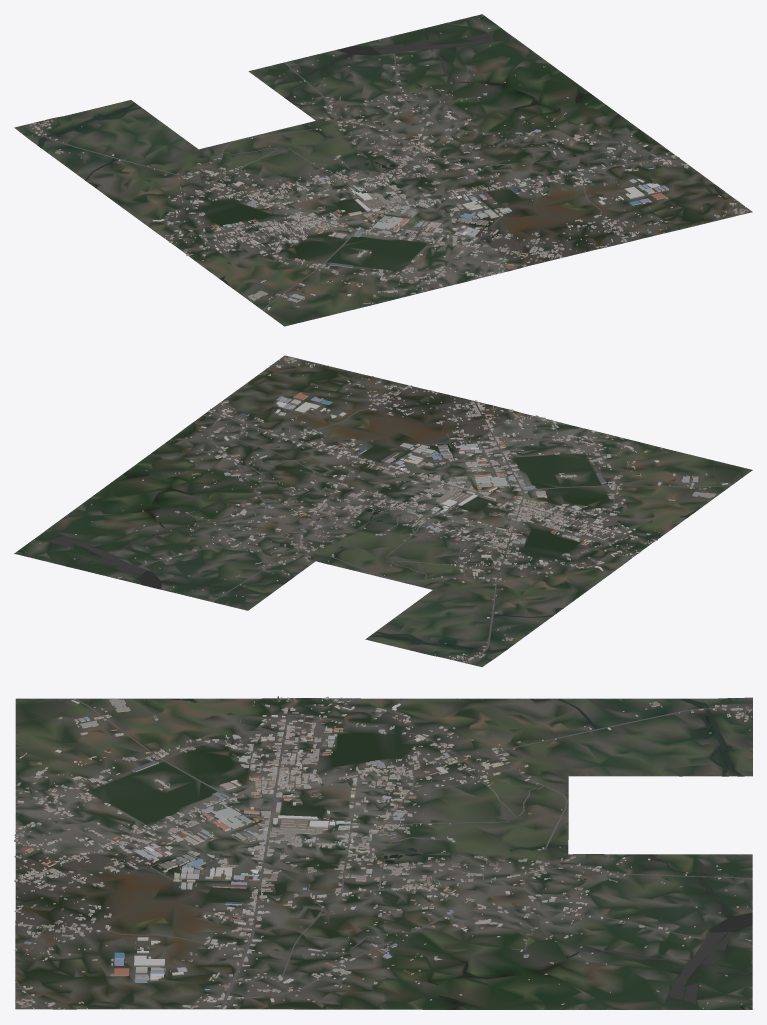
The picture shows the model from 3 angles, top to bottom: view 1: azimuth 30°, elevation 25°; view 2: azimuth 150°, elevation 25°; view 3: azimuth 270°, elevation 25°; orthographic projection. The views are drawn at different scales.
Parts seen in each view (by area): view 1: ground, buildings, roads, water; view 2: ground, buildings, roads, water; view 3: ground, buildings, roads, water.
Boxes of the visible parts, box(x1,y1,x2,y2) form: ground: box(14, 14, 752, 326); buildings: box(29, 18, 748, 310); roads: box(31, 54, 739, 309); water: box(38, 16, 594, 317); ground: box(14, 355, 752, 666); buildings: box(25, 357, 730, 662); roads: box(139, 358, 730, 663); water: box(17, 461, 724, 653); ground: box(15, 697, 752, 1009); buildings: box(14, 696, 751, 1009); roads: box(15, 698, 752, 1009); water: box(16, 698, 752, 1009).
Size of the model in its own units: 5621 by 37.74 by 5616.
